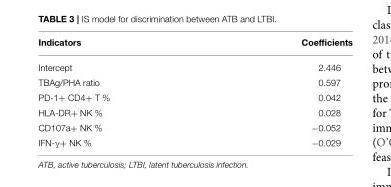table: (37, 37, 351, 147)
table column: (37, 37, 204, 147), (204, 37, 351, 147)
table column header: (37, 37, 351, 54)
table row: (37, 54, 351, 74), (37, 37, 351, 54), (37, 74, 351, 90), (37, 90, 351, 105), (37, 105, 351, 120), (37, 120, 351, 135), (37, 135, 351, 147)
